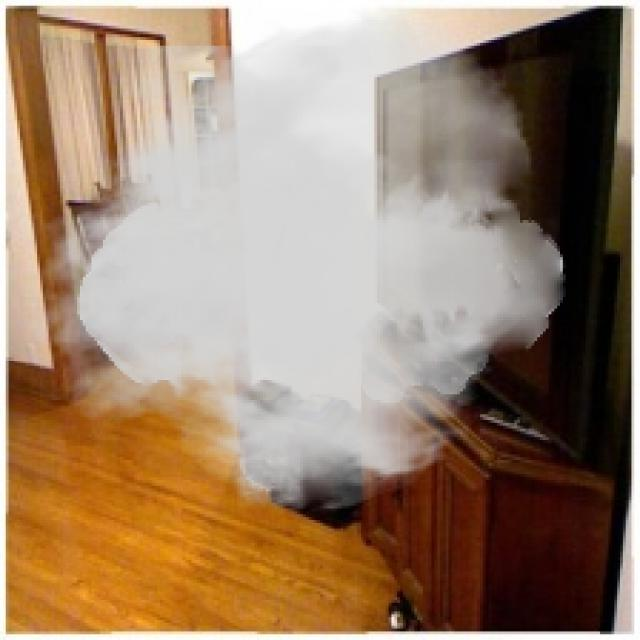smoke: (23, 0, 566, 517)
